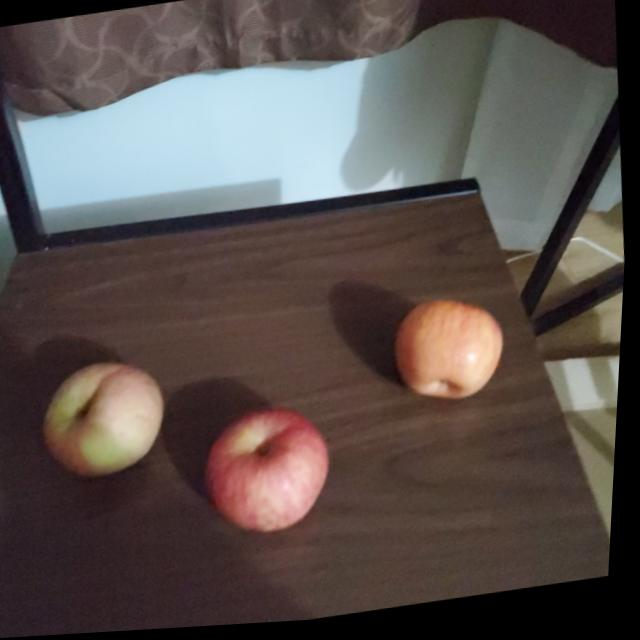apple: (208, 406, 343, 543), (41, 358, 175, 487), (397, 300, 515, 415)
